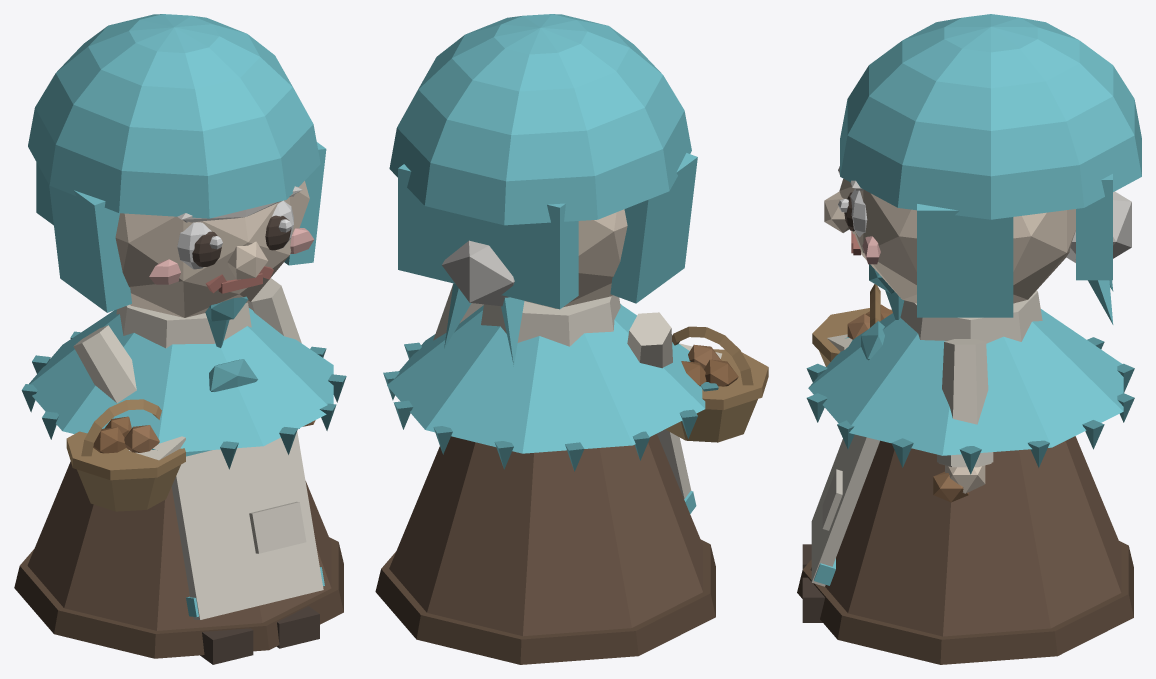
File: castanyera-actual-referencia.glb
3 renders of one model, left to right at view 1: azimuth 30°, elevation 25°; view 2: azimuth 150°, elevation 25°; view 3: azimuth 270°, elevation 25°, orthographic. The views are drawn at different scales.
Visible parts, largest first — view 1: Cos, Brac; view 2: Cos; view 3: Cos, Brac.
Boxes of the visible parts, bbox=[...] form: Cos: bbox=[14, 14, 346, 664]; Brac: bbox=[248, 278, 315, 426]; Cos: bbox=[375, 14, 768, 664]; Cos: bbox=[797, 14, 1141, 664]; Brac: bbox=[933, 339, 993, 502].
Size of the model in its own units: 1.02 by 1.8 by 0.9879.
